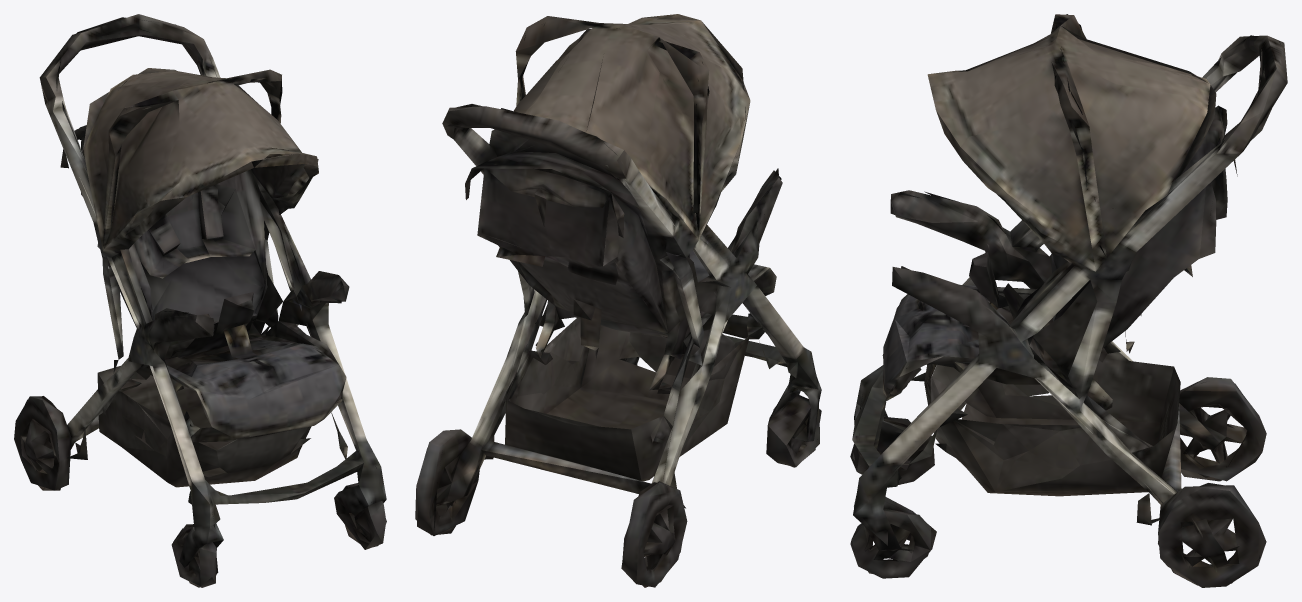
The model's file is p7-baby-stroller.glb.
3 views of the same model, side by side, from view 1: azimuth 30°, elevation 25°; view 2: azimuth 150°, elevation 25°; view 3: azimuth 270°, elevation 25° (orthographic). The views are drawn at different scales.
Parts seen in each view (by area): view 1: p7-baby-stroller; view 2: p7-baby-stroller; view 3: p7-baby-stroller.
Boxes of the visible parts, x1=… form: p7-baby-stroller: x1=14, y1=14, x2=386, y2=587; p7-baby-stroller: x1=415, y1=14, x2=821, y2=587; p7-baby-stroller: x1=850, y1=14, x2=1287, y2=587.
Size of the model in its own units: 0.55 by 1.05 by 0.85.
1 material, 1 textured.
